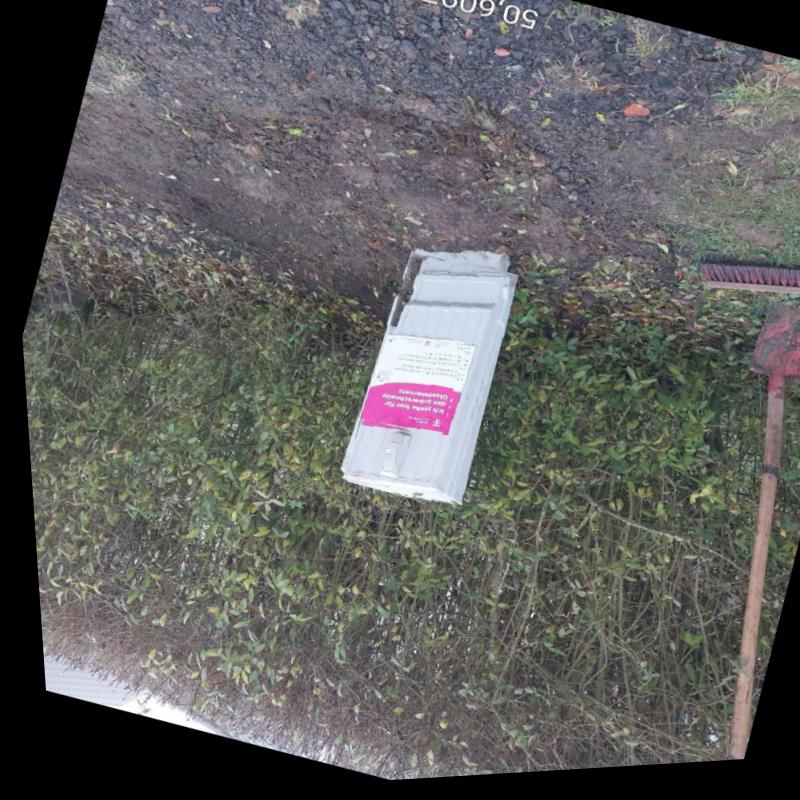NT-Gehause: (335, 266, 512, 509)
Steaker: (352, 336, 459, 438)
